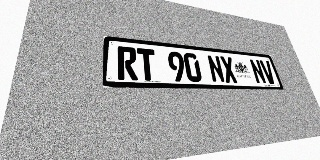0: (183, 52, 203, 82)
9: (167, 51, 187, 82)
N: (206, 55, 226, 83), (249, 59, 267, 84)
R: (117, 46, 138, 80)
T: (137, 48, 157, 81)
V: (259, 60, 277, 84)
X: (219, 56, 238, 83)
